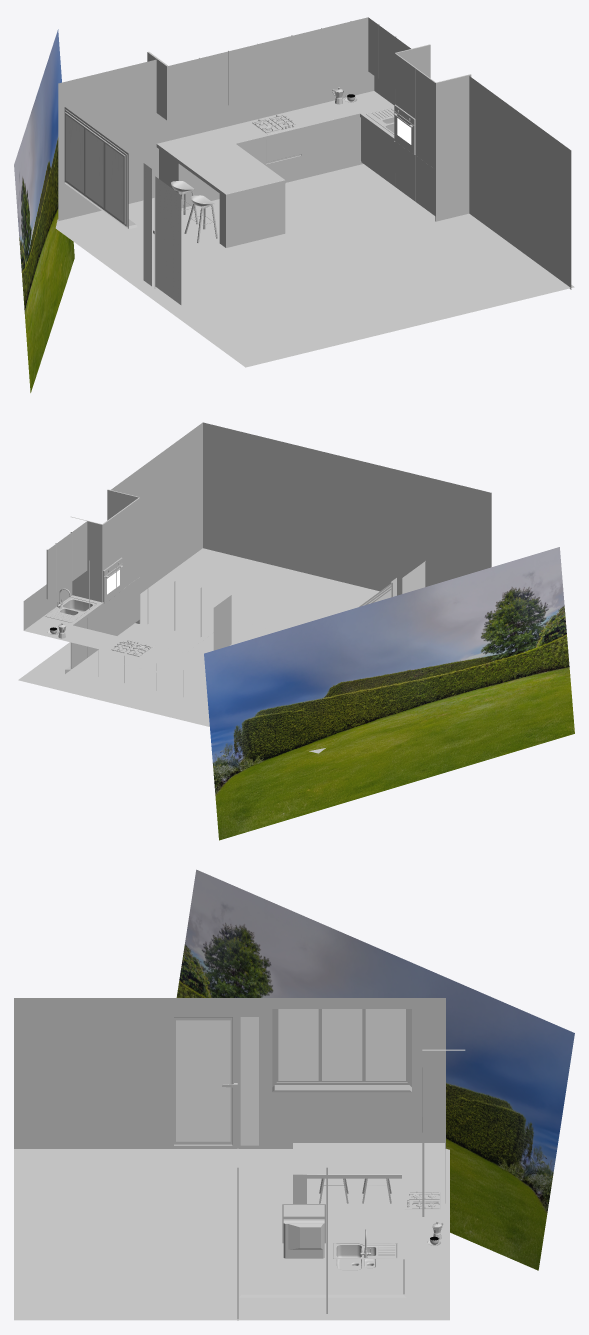
The model's file is bellos_kitchen_fin.glb.
3 renders of one model, top to bottom at view 1: azimuth 30°, elevation 25°; view 2: azimuth 150°, elevation 25°; view 3: azimuth 270°, elevation 25°, orthographic. The views are drawn at different scales.
Visible parts, largest first — view 1: Kitchen_Floor, Kitchen_Cupboards, Kitchen_Worktop, Kitchen_Static_Walls, outside_garden, Kitchen_Walls, Kitchen_Glass, Kitchen_WindowFrame, Kitchen_Cooker, Kitchen_Stools_Legs, Kitchen_Hob; view 2: outside_garden, Kitchen_Static_Walls, Kitchen_Floor, Kitchen_Cupboards, Kitchen_Worktop, Kitchen_Sink, Kitchen_Glass; view 3: Kitchen_Floor, outside_garden, Kitchen_Static_Walls, Kitchen_Glass, Kitchen_Worktop, Kitchen_Door, Kitchen_WindowFrame, Kitchen_Cooker, Kitchen_Cupboards, Kitchen_Sink, Kitchen_Hob.
Boxes of the visible parts, <box> form: Kitchen_Floor: <box>55,164,574,367</box>; Kitchen_Cupboards: <box>147,17,471,221</box>; Kitchen_Worktop: <box>156,71,395,247</box>; Kitchen_Static_Walls: <box>64,76,571,289</box>; outside_garden: <box>14,29,74,392</box>; Kitchen_Walls: <box>58,59,156,220</box>; Kitchen_Glass: <box>65,115,181,304</box>; Kitchen_WindowFrame: <box>64,107,136,229</box>; Kitchen_Cooker: <box>393,104,415,154</box>; Kitchen_Stools_Legs: <box>173,189,217,243</box>; Kitchen_Hob: <box>252,115,298,134</box>; outside_garden: <box>204,547,574,840</box>; Kitchen_Static_Walls: <box>111,422,491,596</box>; Kitchen_Floor: <box>18,548,379,753</box>; Kitchen_Cupboards: <box>46,489,231,696</box>; Kitchen_Worktop: <box>23,582,277,675</box>; Kitchen_Sink: <box>45,588,97,622</box>; Kitchen_Glass: <box>374,561,425,602</box>; Kitchen_Floor: <box>14,1148,449,1320</box>; outside_garden: <box>176,869,574,1270</box>; Kitchen_Static_Walls: <box>14,998,445,1148</box>; Kitchen_Glass: <box>176,1009,405,1145</box>; Kitchen_Worktop: <box>293,1143,444,1259</box>; Kitchen_Door: <box>168,1012,261,1148</box>; Kitchen_WindowFrame: <box>272,1009,411,1092</box>; Kitchen_Cooker: <box>282,1204,325,1258</box>; Kitchen_Cupboards: <box>237,1049,465,1320</box>; Kitchen_Sink: <box>333,1229,397,1270</box>; Kitchen_Hob: <box>404,1190,440,1209</box>.
Size of the model in its own units: 8.24 by 4.29 by 7.64.
Materials: 5 (1 with a texture image).
